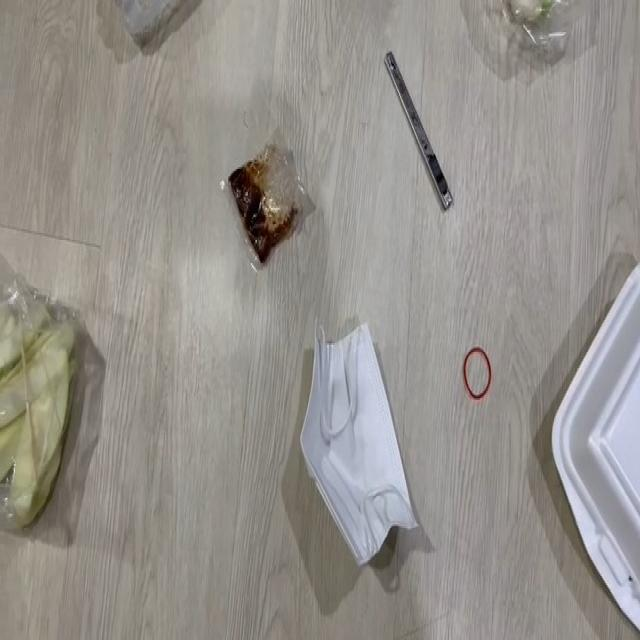Anorganik: (547, 218, 640, 630), (361, 45, 460, 208), (106, 0, 208, 69), (460, 344, 500, 404)
B3: (297, 312, 422, 570), (0, 290, 80, 540), (219, 118, 320, 282)
